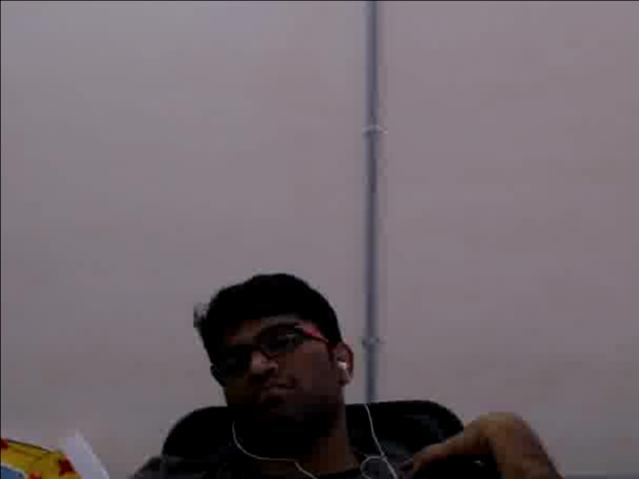bosan: (225, 310, 327, 426)
